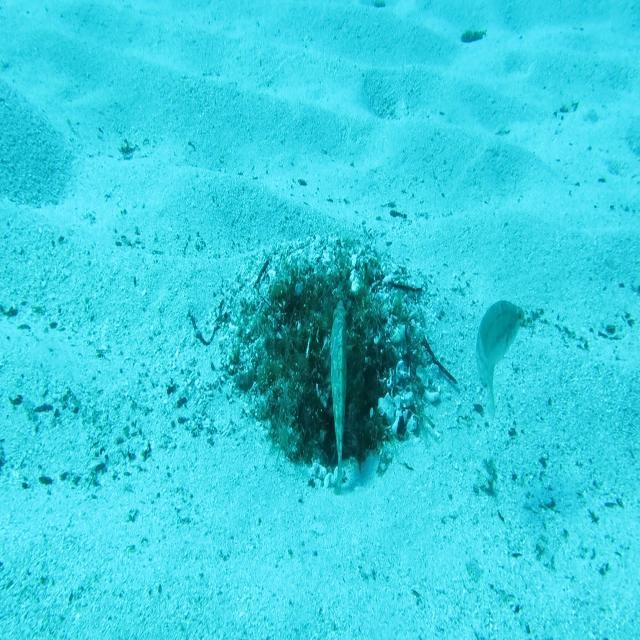LF: (318, 298, 361, 498)
core_nest: (299, 286, 348, 320)
female: (474, 298, 525, 424)
nest: (212, 230, 454, 504)
vegetation: (460, 28, 486, 46)
